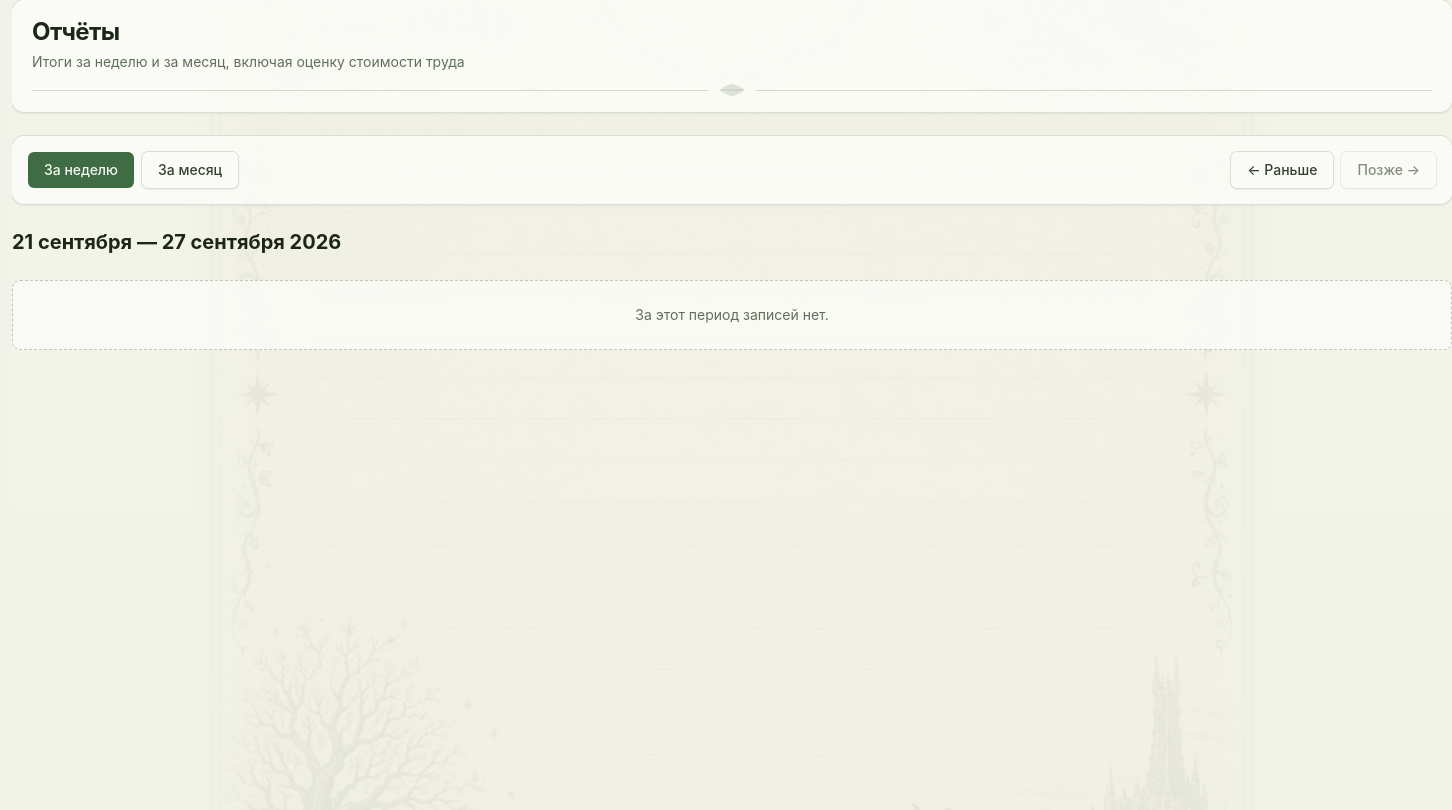
Test case: ReportsPage › сбрасывает сдвиг при смене режима
The image size is (1452, 810).
Click the button "← Раньше".
click(1282, 170)  # box [1231,152,1333,188]
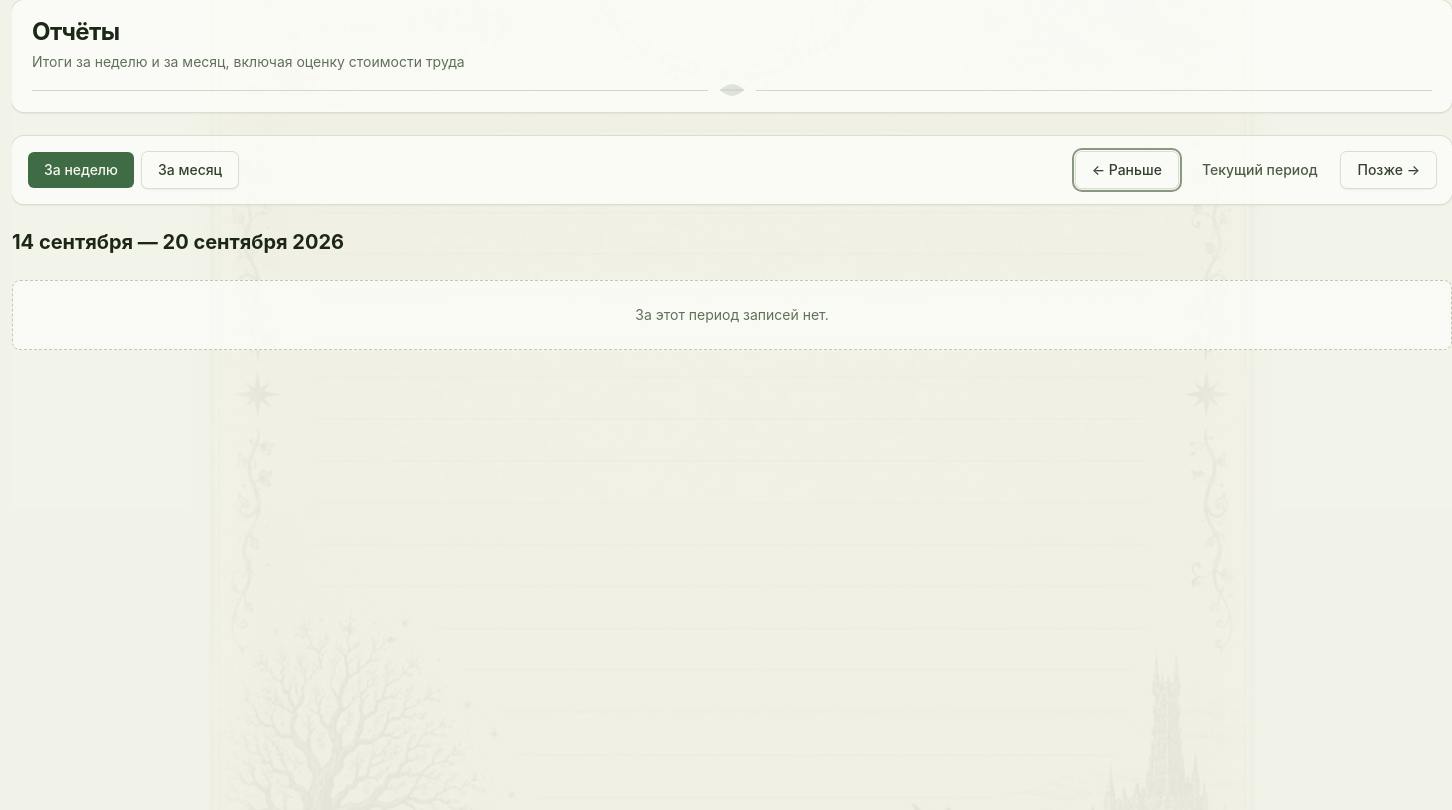
Click the button "За месяц".
click(190, 170)  # box [142,152,238,188]
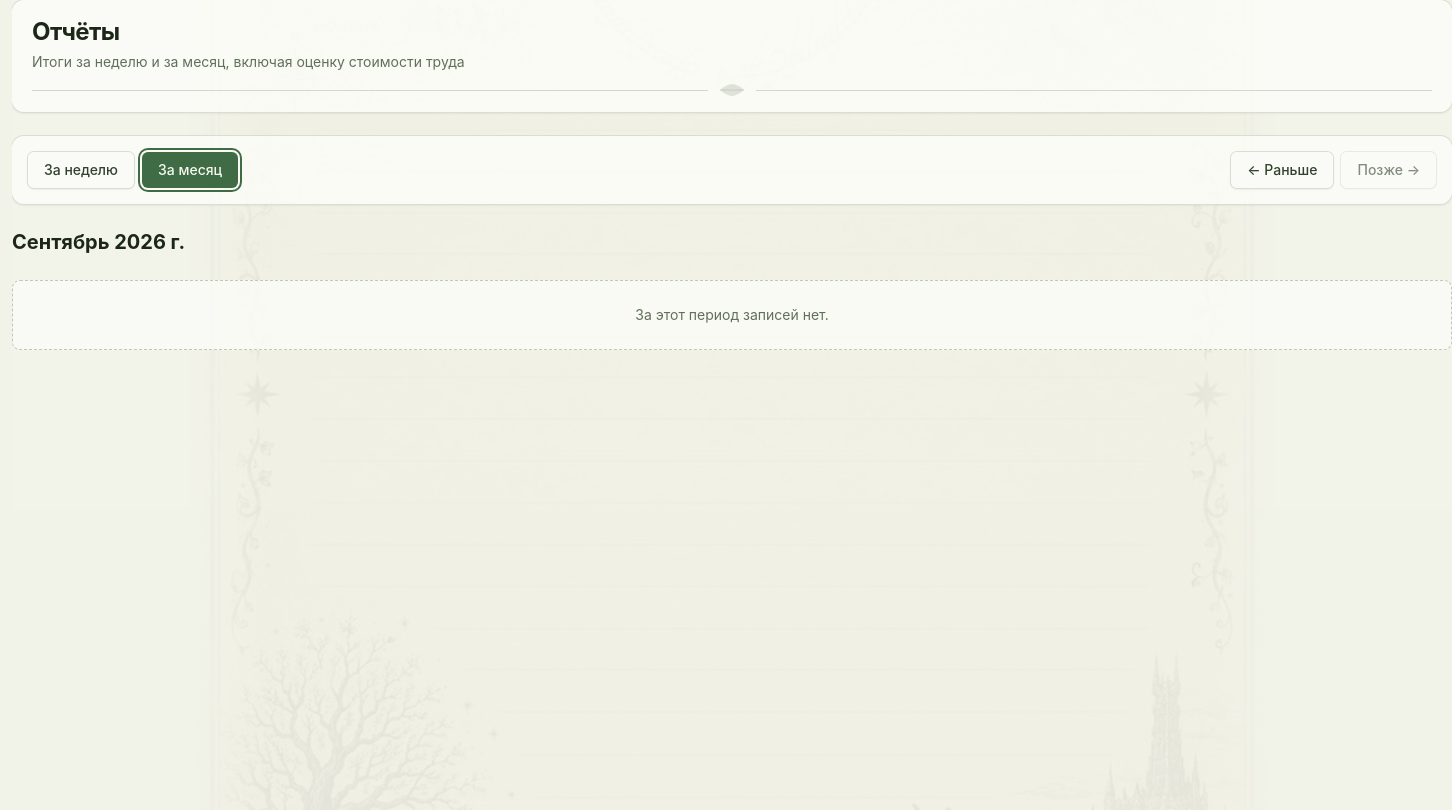
Check: the button "Текущий период" is gone
